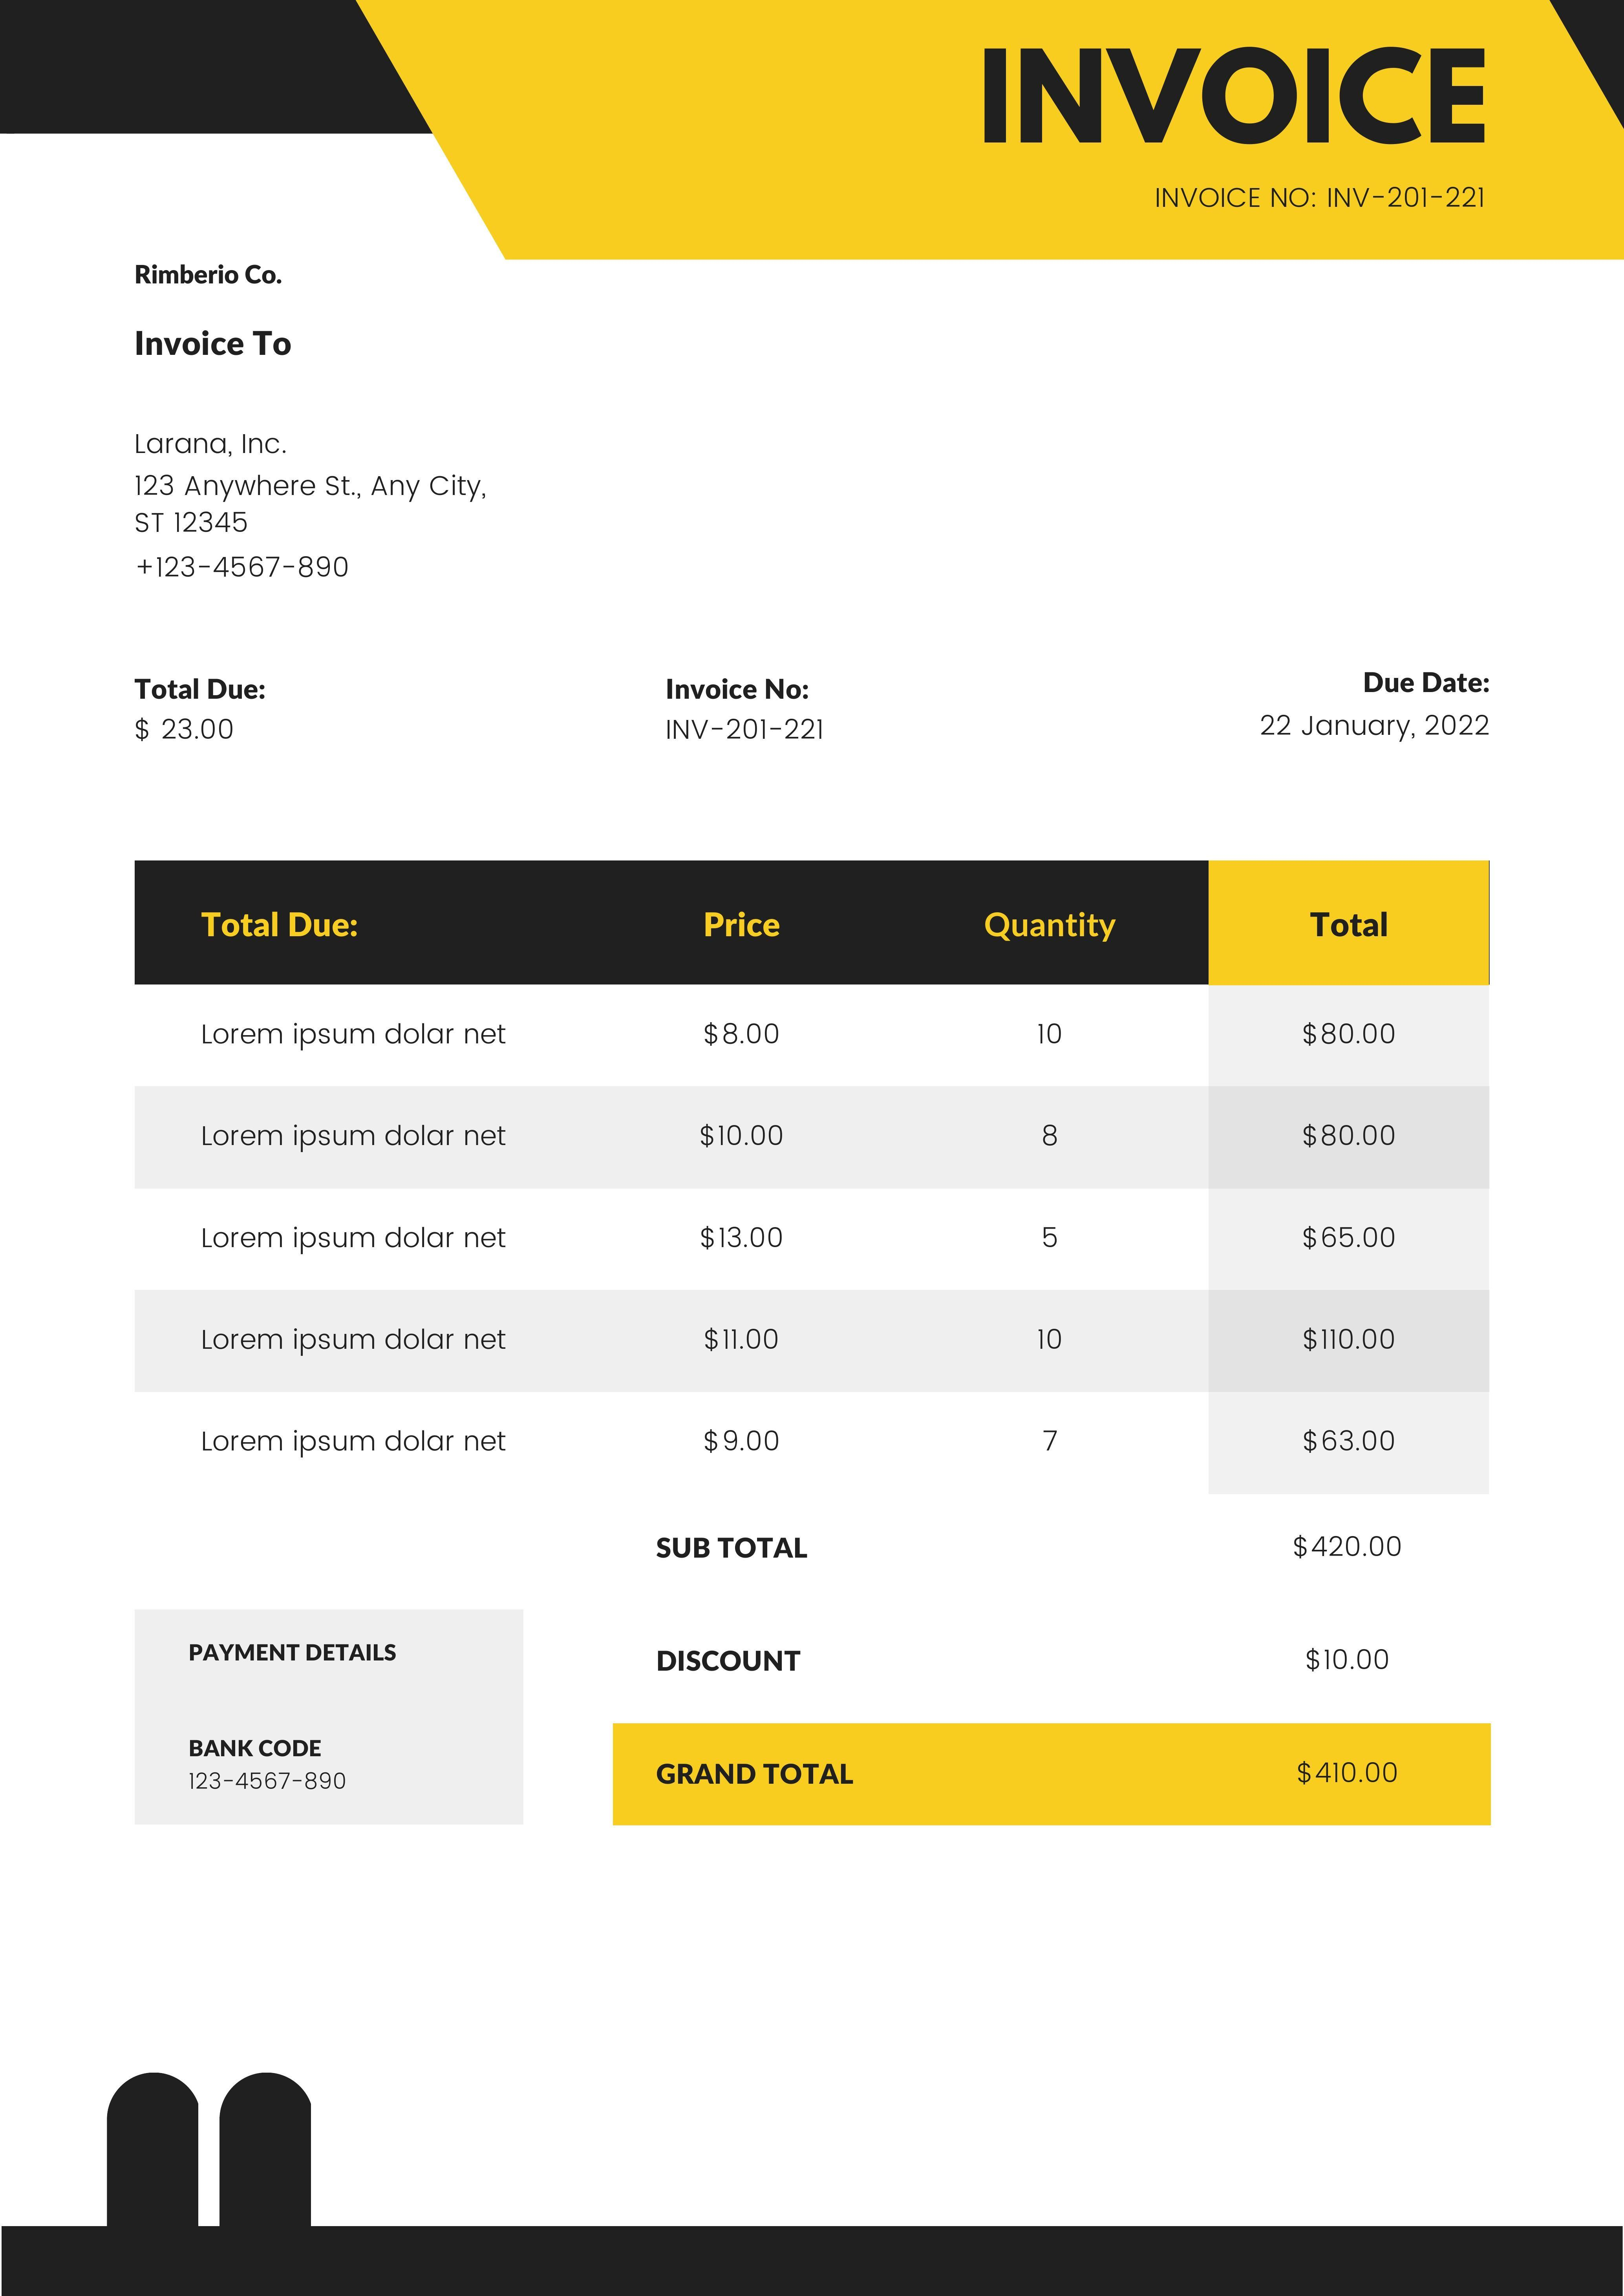ROI: (184, 902, 1421, 1459), (649, 1521, 1407, 1807), (110, 659, 1520, 765), (121, 323, 503, 608), (145, 1629, 430, 1800)
